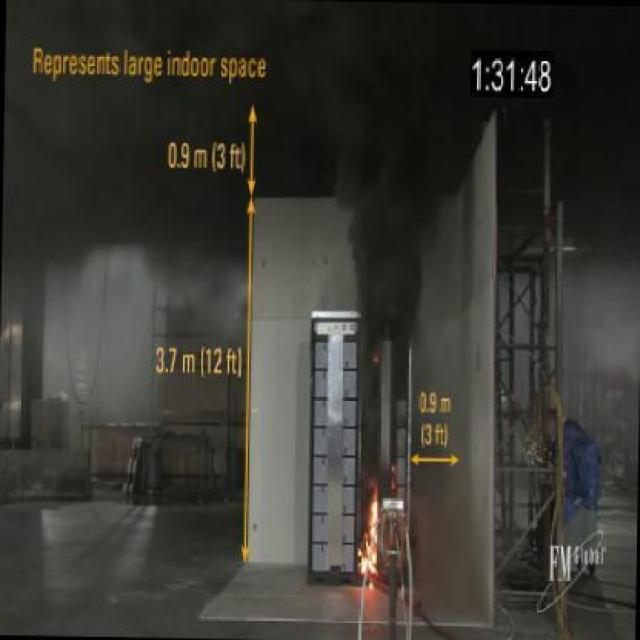fire: (327, 55, 445, 300)
smoke: (354, 482, 382, 580)
